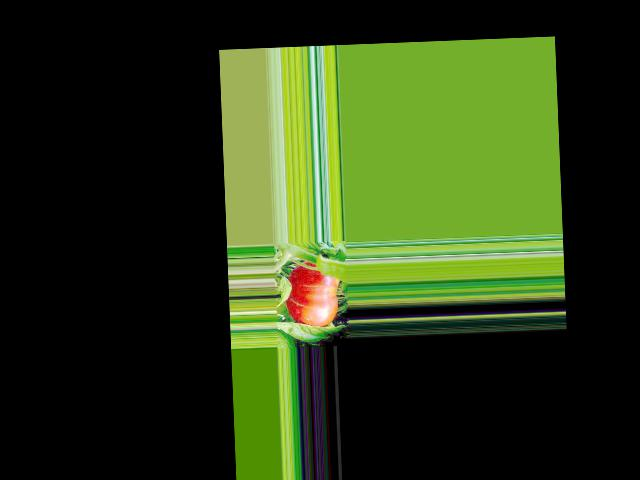tomato: (284, 259, 341, 328)
